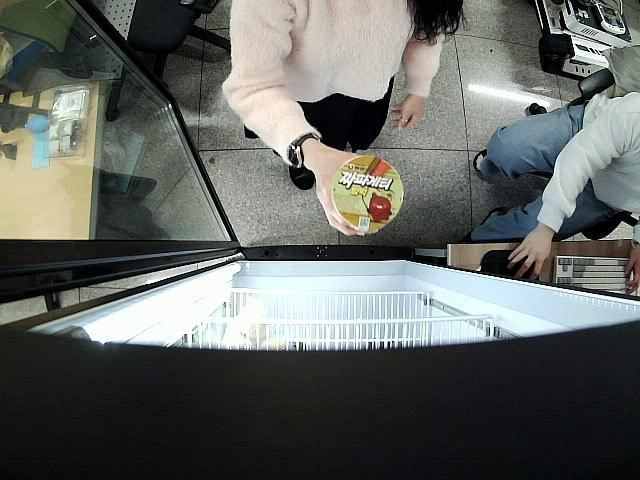00_hand: (308, 137, 373, 239), (504, 227, 553, 284), (392, 94, 425, 134), (625, 246, 640, 294)
04_chapagetti_S: (334, 155, 406, 236)
